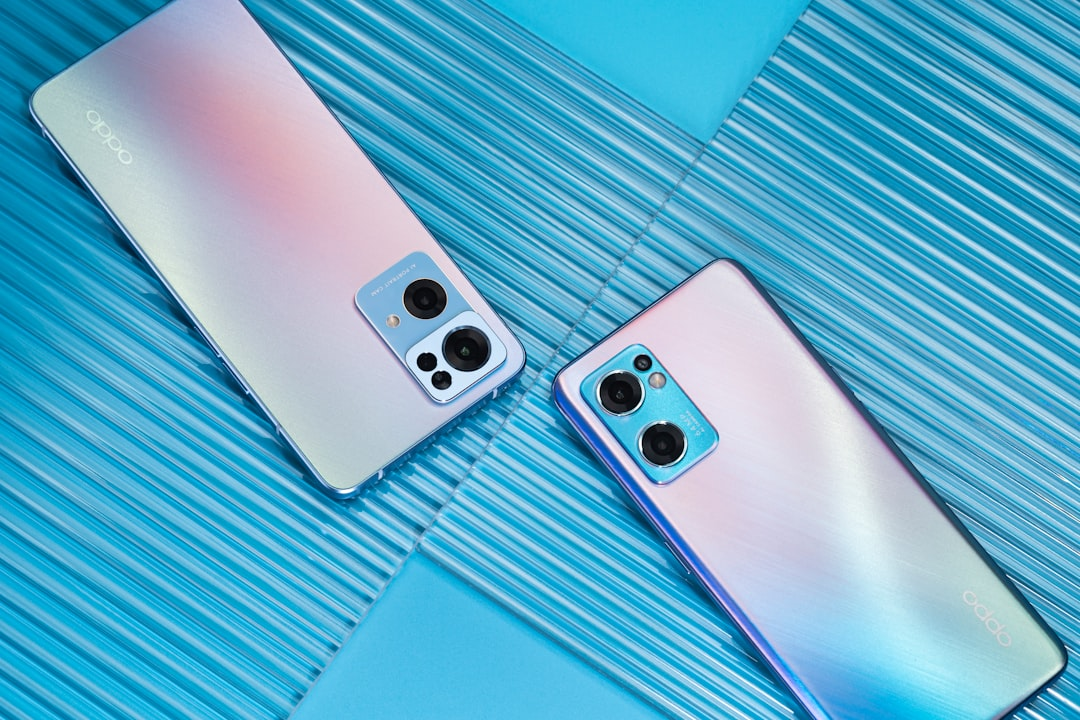phone: (17, 1, 527, 497), (551, 256, 1070, 719)
